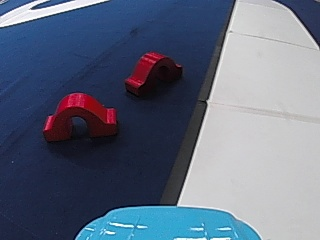bridge: (39, 89, 117, 142), (122, 48, 183, 98)
